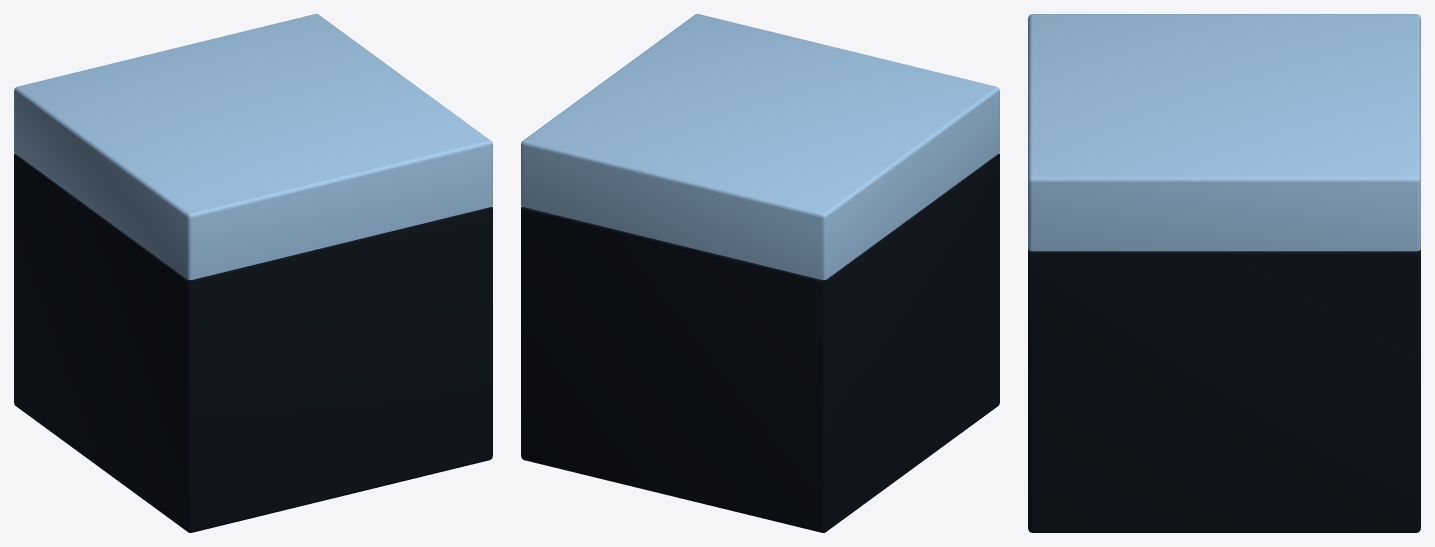
The model's file is Floor - Normal.fbx.
The picture shows the model from 3 angles, left to right: view 1: azimuth 30°, elevation 25°; view 2: azimuth 150°, elevation 25°; view 3: azimuth 270°, elevation 25°; orthographic projection. The views are drawn at different scales.
Parts seen in each view (by area): view 1: Floor; view 2: Floor; view 3: Floor.
Part boxes in pixels (left/top/right/bottom): Floor: left=14, top=14, right=492, bottom=532; Floor: left=521, top=14, right=999, bottom=532; Floor: left=1028, top=14, right=1420, bottom=532.
Bounding box in the file's own units: 200 × 200 × 200.
